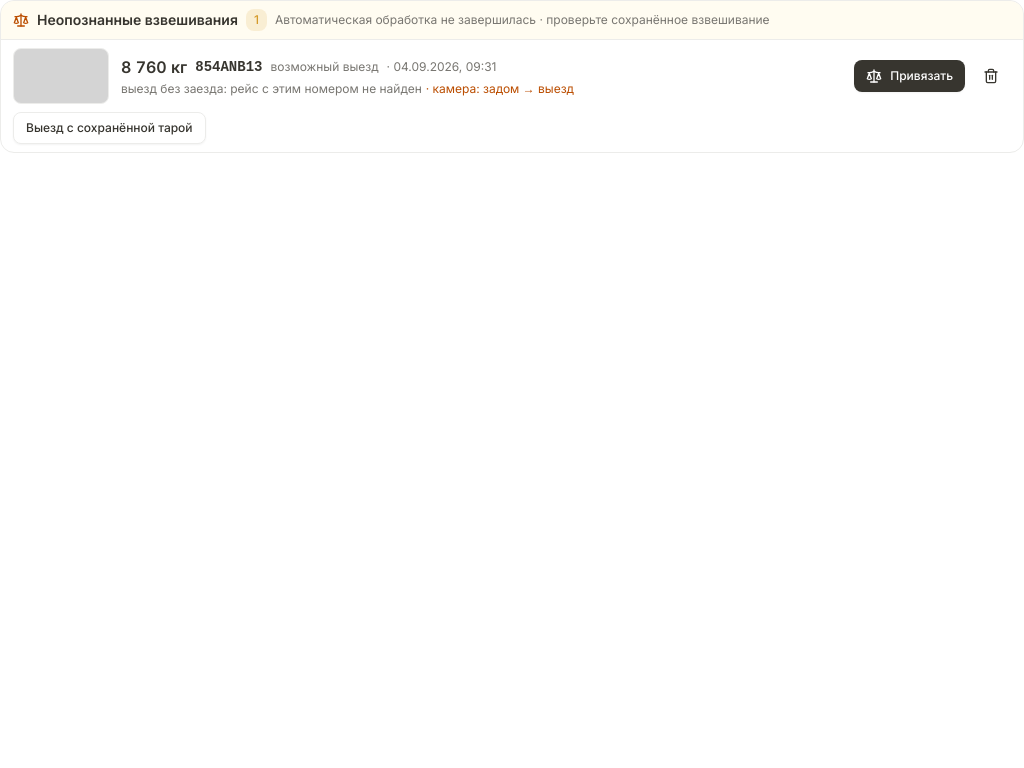
Test: UnassignedWeighingsPanel camera orientation › routes a rear-facing exit to historical tare instead of creating a false entry
Expected: the text "854ANB13" is shown, top-left (195, 57), bottom-right (262, 77)
Expected: the text "выезд без заезда" is shown, top-left (121, 81), bottom-right (422, 96)
Click the button "Выезд с сохранённой тарой" at [109, 128], box top-left (13, 112), bottom-right (206, 144)
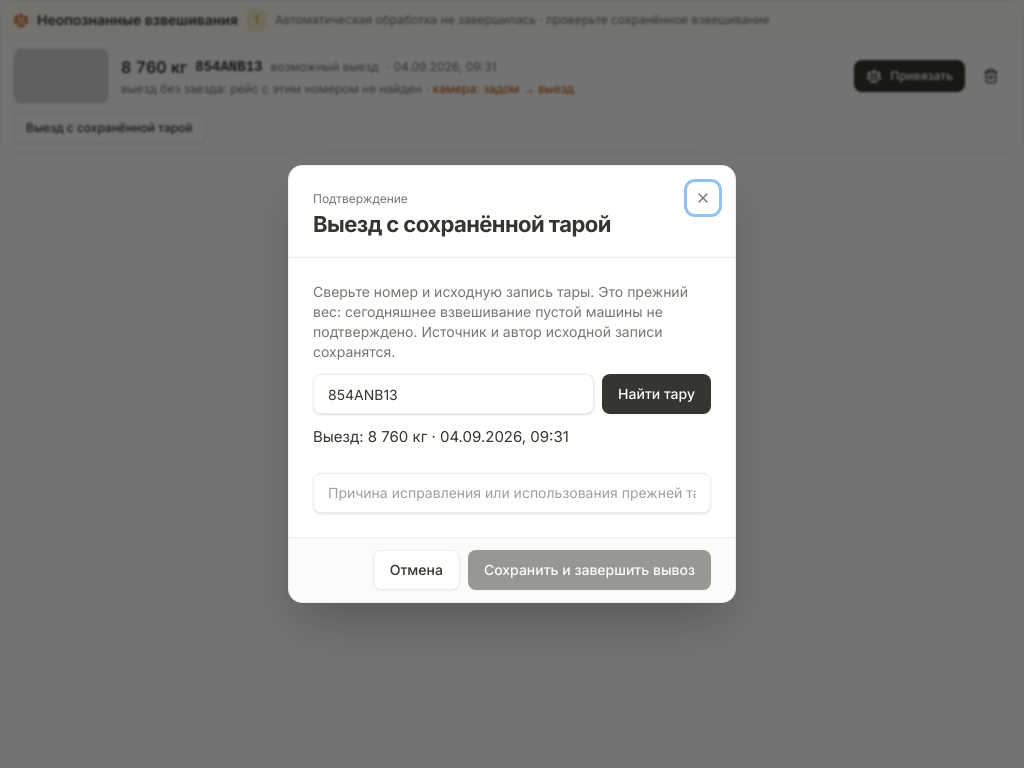
Now the field named "Номер машины для поиска тары" holds "854ANB13", box top-left (313, 374), bottom-right (594, 414)
